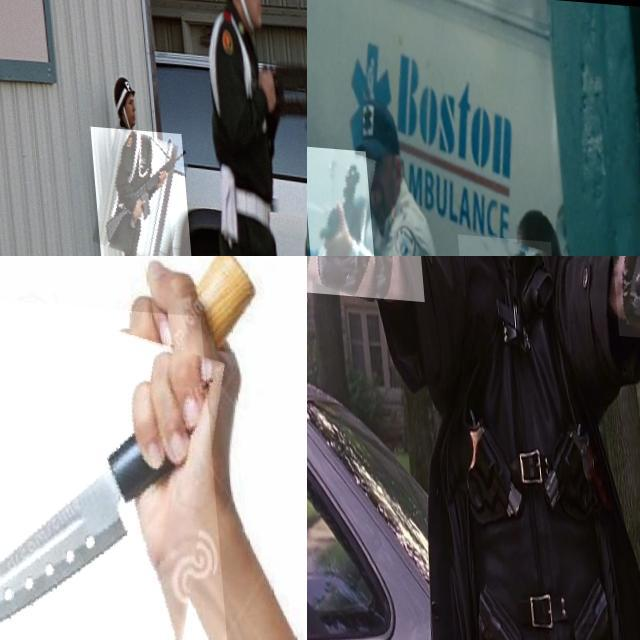-: (0, 291, 225, 640)
gun-knife-thesis - v11 Yolov5 augmented: (307, 256, 420, 394), (86, 124, 186, 256), (307, 142, 373, 256)
